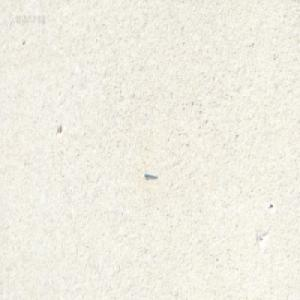Nail: (143, 170, 156, 178)
